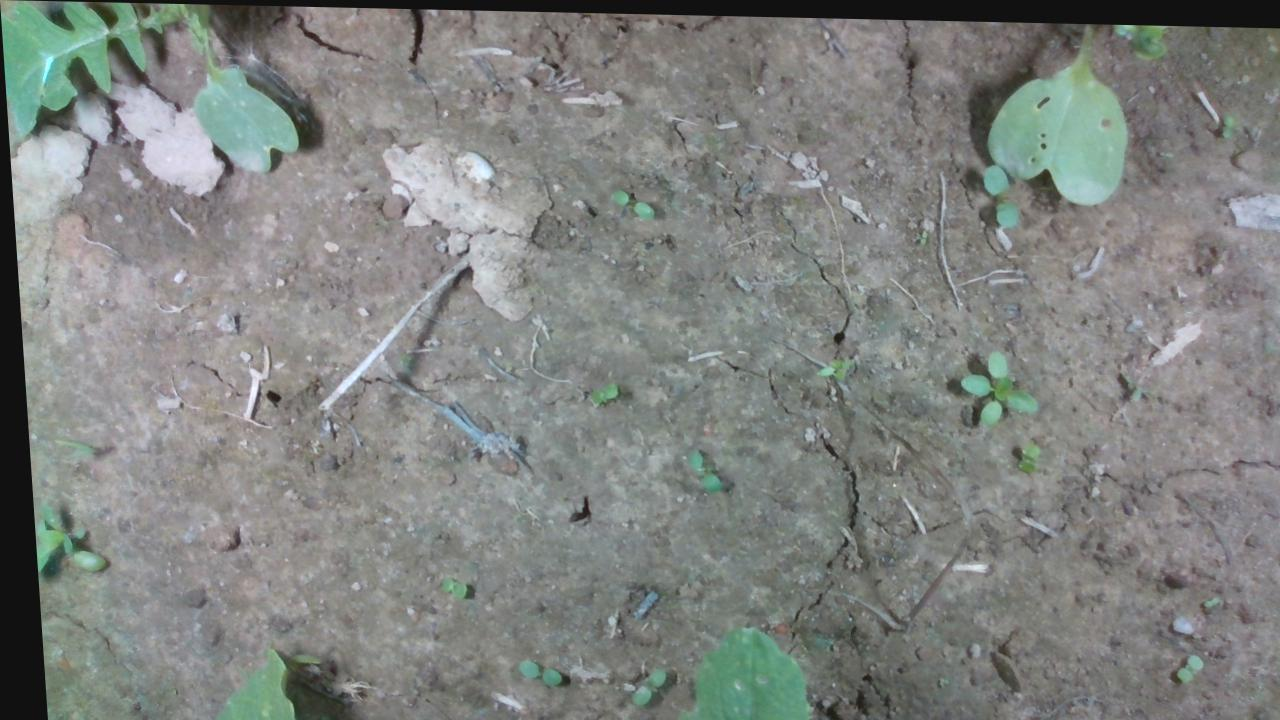weed: (1157, 646, 1197, 680)
